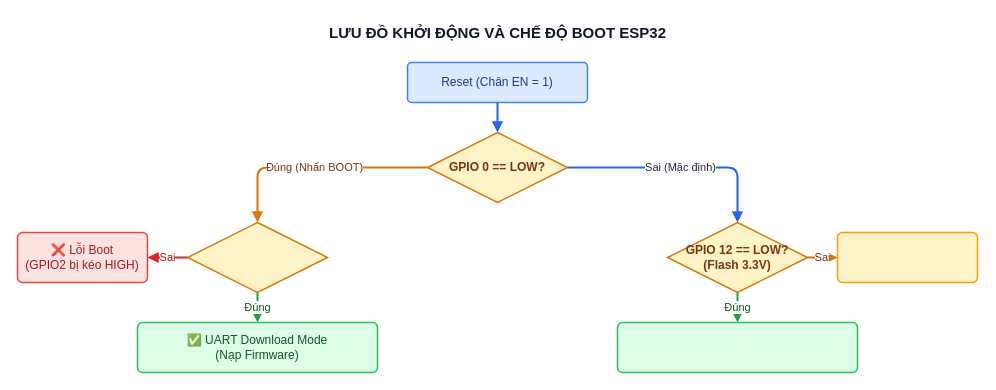
Image size: 996x390. Some labels were removed from this diagram. The shapes that lost their labels are listed below. From the top down, each one's centre as x and y in pixels, then its label:
At pixel 257 257: "GPIO 2 == LOW?".
At pixel 907 257: "⚠️ Lỗi Flash LDO (1.8V không boot)".
At pixel 737 347: "🚀 SPI Flash Boot Mode (Khởi chạy Firmware)".
